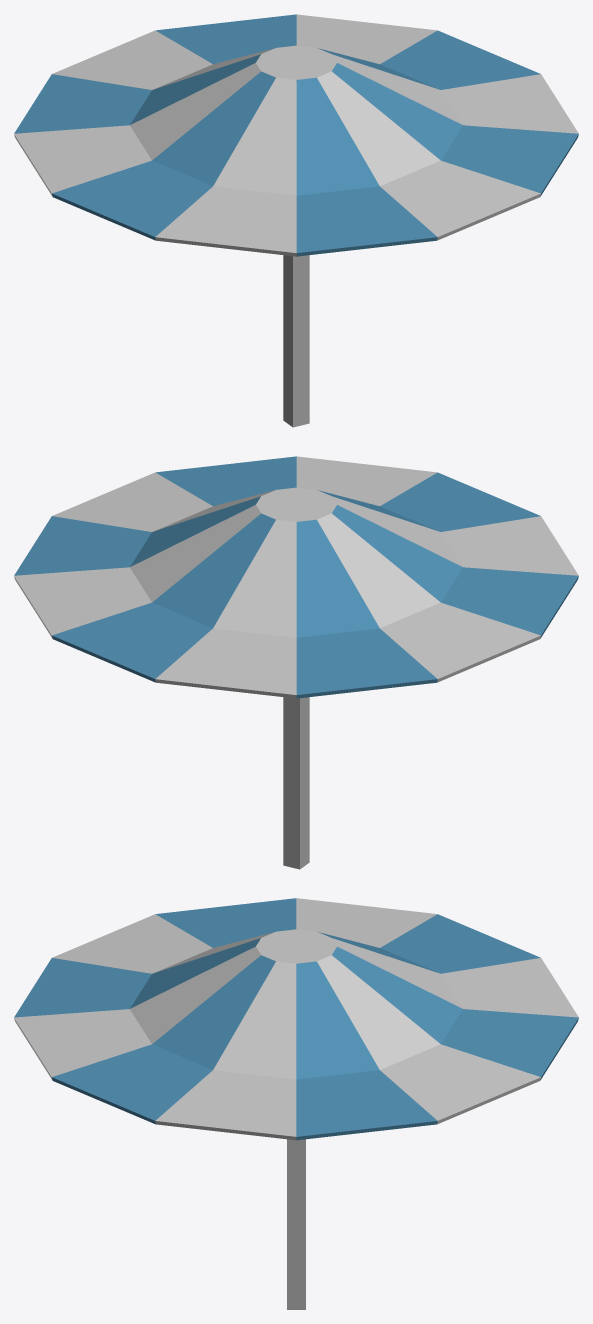
File: umbrella02.fbx
The picture shows the model from 3 angles, top to bottom: view 1: azimuth 30°, elevation 25°; view 2: azimuth 150°, elevation 25°; view 3: azimuth 270°, elevation 25°; orthographic projection.
Visible parts, largest first — view 1: Umbrella02; view 2: Umbrella02; view 3: Umbrella02.
Part boxes in pixels (x1=…): Umbrella02: x1=14, y1=14, x2=578, y2=427; Umbrella02: x1=14, y1=456, x2=578, y2=869; Umbrella02: x1=14, y1=898, x2=578, y2=1309.
Size of the model in its own units: 310 by 217 by 310.
